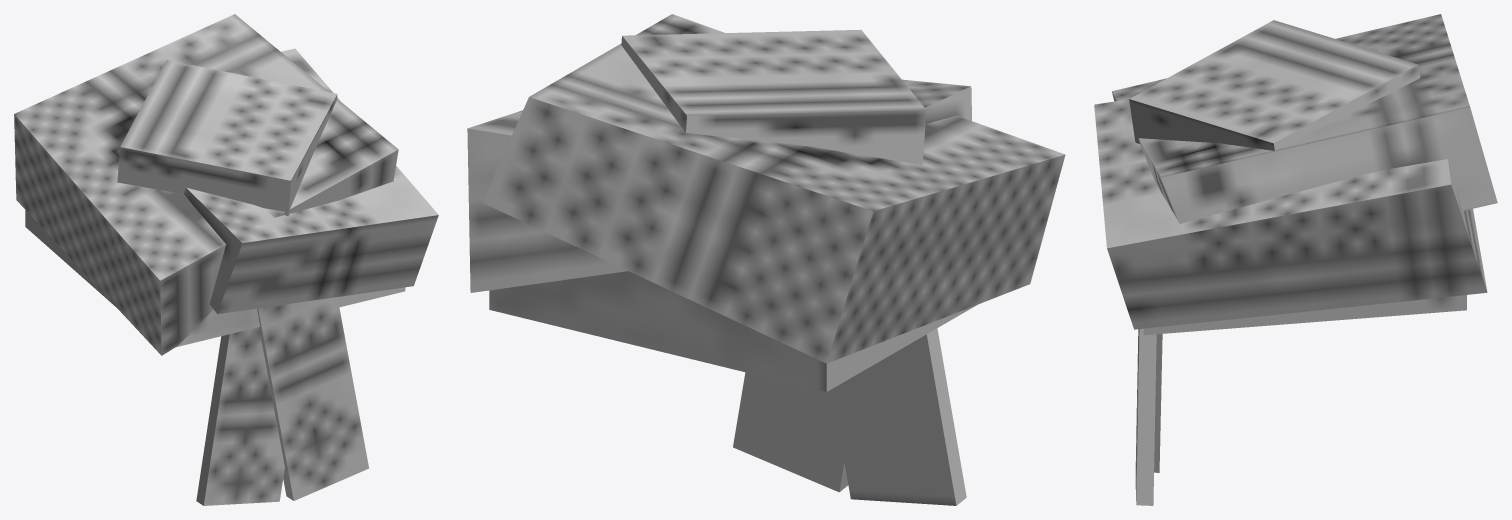
Rendered from vanderer_h.obj.
3 renders of one model, left to right at view 1: azimuth 30°, elevation 25°; view 2: azimuth 150°, elevation 25°; view 3: azimuth 270°, elevation 25°, orthographic. The views are drawn at different scales.
Parts seen in each view (by area): view 1: mesh; view 2: mesh; view 3: mesh.
Part boxes in pixels (x1,y1,x2,y2): mesh: (14, 14, 438, 505); mesh: (467, 14, 1065, 505); mesh: (1094, 14, 1497, 505).
Size of the model in its own units: 0.6964 by 0.8428 by 0.7333.
